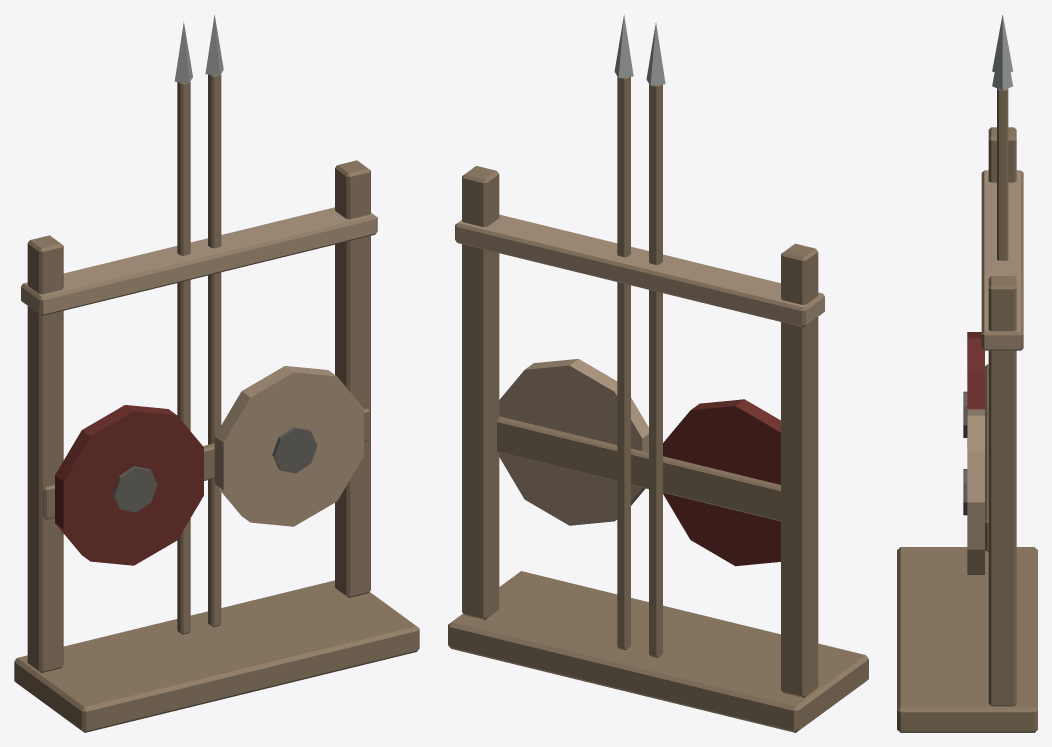
The model's file is weapon_rack_2.glb.
The picture shows the model from 3 angles, left to right: view 1: azimuth 30°, elevation 25°; view 2: azimuth 150°, elevation 25°; view 3: azimuth 270°, elevation 25°; orthographic projection. The views are drawn at different scales.
Parts seen in each view (by area): view 1: Weapon_Rack_2; view 2: Weapon_Rack_2; view 3: Weapon_Rack_2.
Boxes of the visible parts, <box> form: Weapon_Rack_2: <box>14,15,419,732</box>; Weapon_Rack_2: <box>448,14,868,732</box>; Weapon_Rack_2: <box>897,15,1037,732</box>.
Size of the model in its own units: 1.1 by 1.98 by 0.4.
